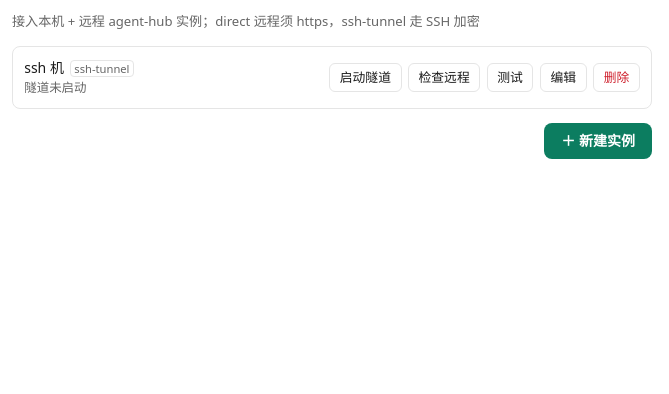
D4 ssh-tunnel 一键安装 › 失败路径：分类错误与执行日志可见，可重试
Expected: the text "ssh 机" is shown, [24, 58, 64, 77]
Click the button "检查远程": [444, 77] box [408, 63, 480, 92]
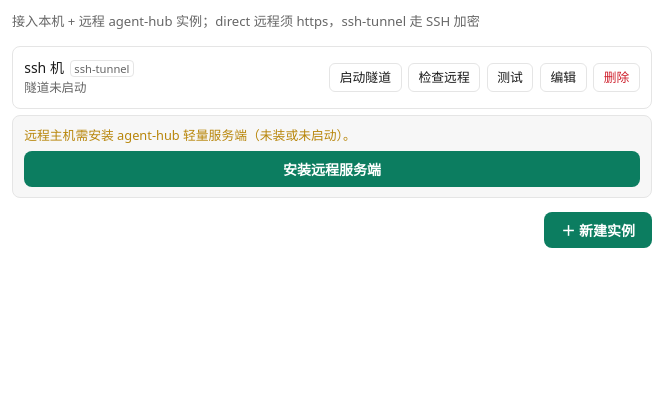
Click the button "安装远程服务端": [332, 169] box [24, 151, 640, 187]
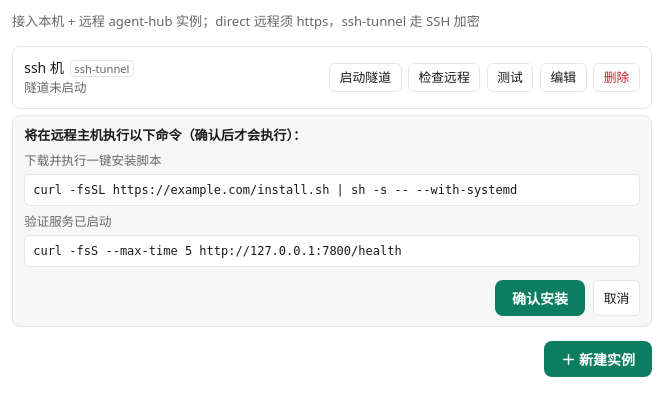
Click the button "确认安装": [540, 298] box [495, 280, 585, 316]
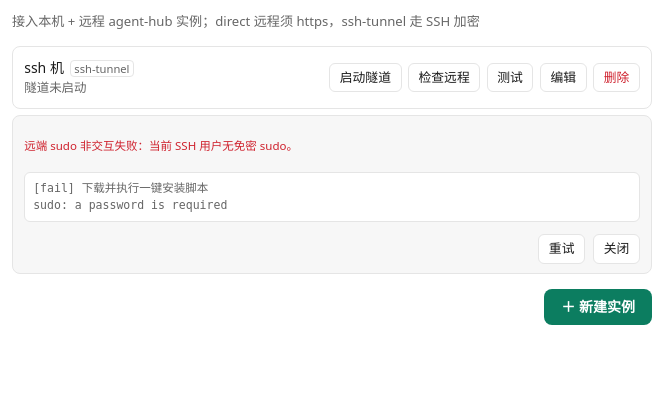
Now the text "远端 sudo 非交互失败：当前 SSH 用户无免密 sudo。" is shown, box [24, 138, 298, 153]
Now the text "[fail] 下载并执行一键安装脚本 sudo: a password is required" is shown, box [24, 172, 640, 222]
